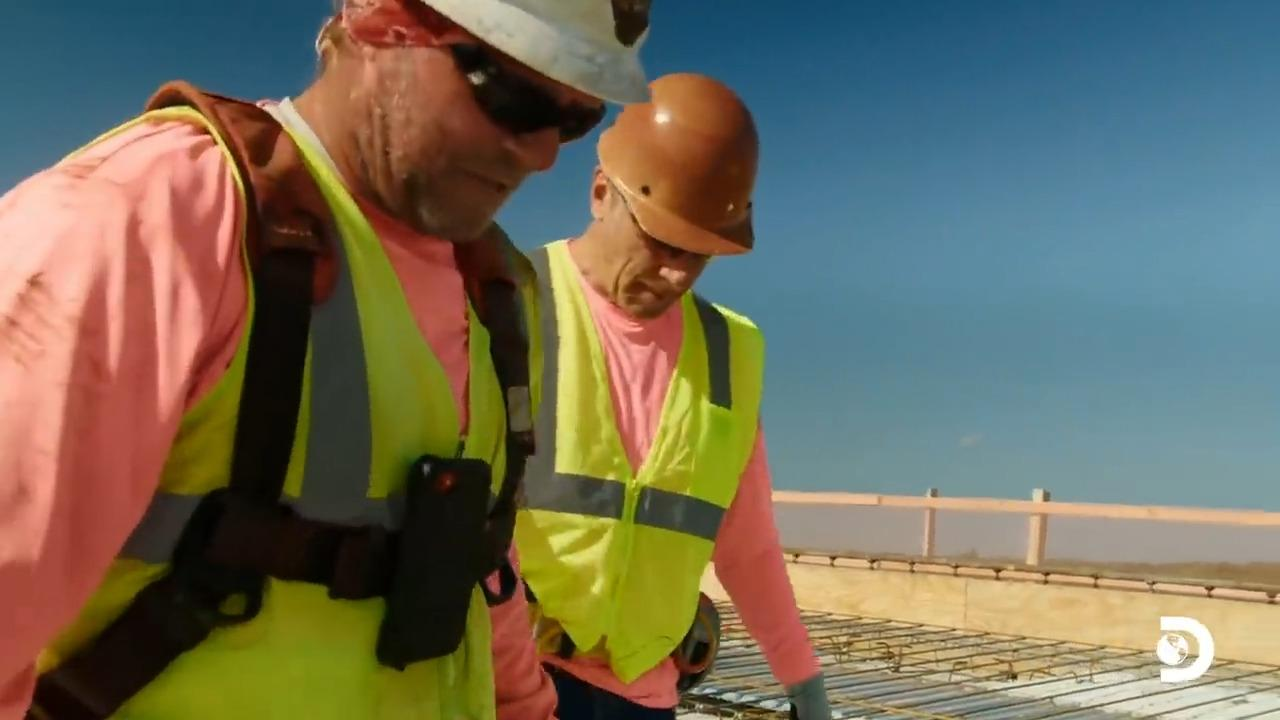Gloves: (788, 660, 836, 720)
Helmet: (595, 71, 759, 256), (431, 0, 649, 105)
Person: (0, 0, 652, 719), (510, 70, 832, 719)
Safety Vest: (157, 248, 494, 720), (525, 296, 739, 698)
